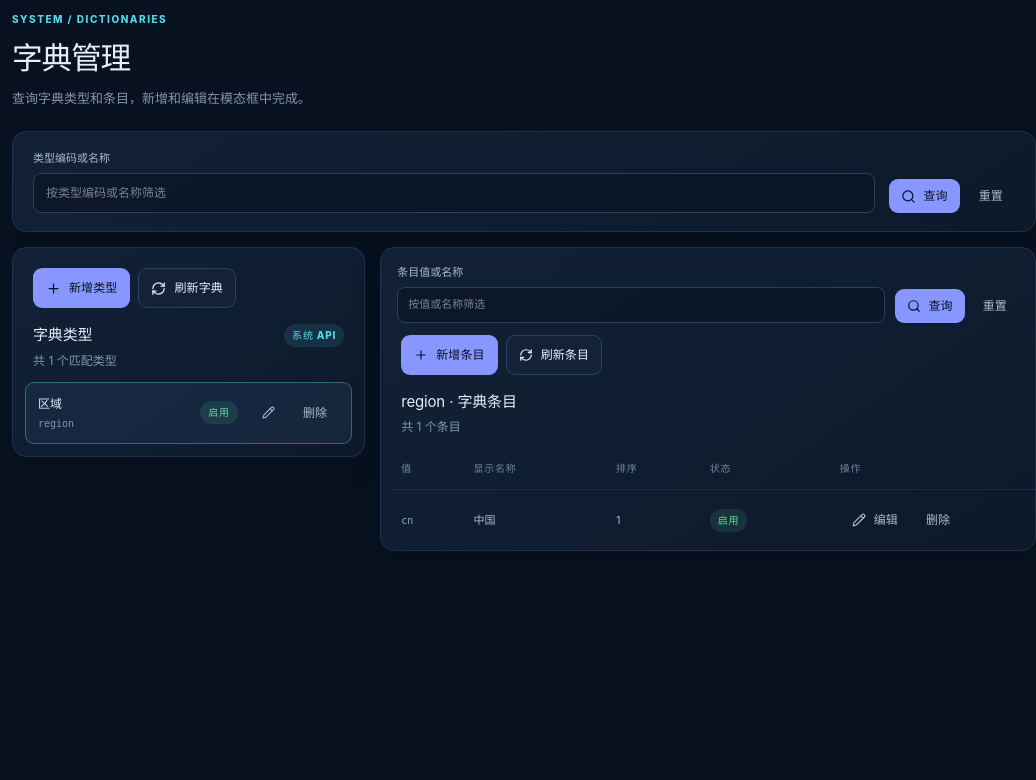
Scenario: DictionariesPage › 刷新字典条目失败时保留旧数据并支持重试
Expected: the text "中国" is shown, top-left (463, 490), bottom-right (606, 550)
Click the button "刷新条目" at (554, 355), box top-left (506, 335), bottom-right (602, 375)
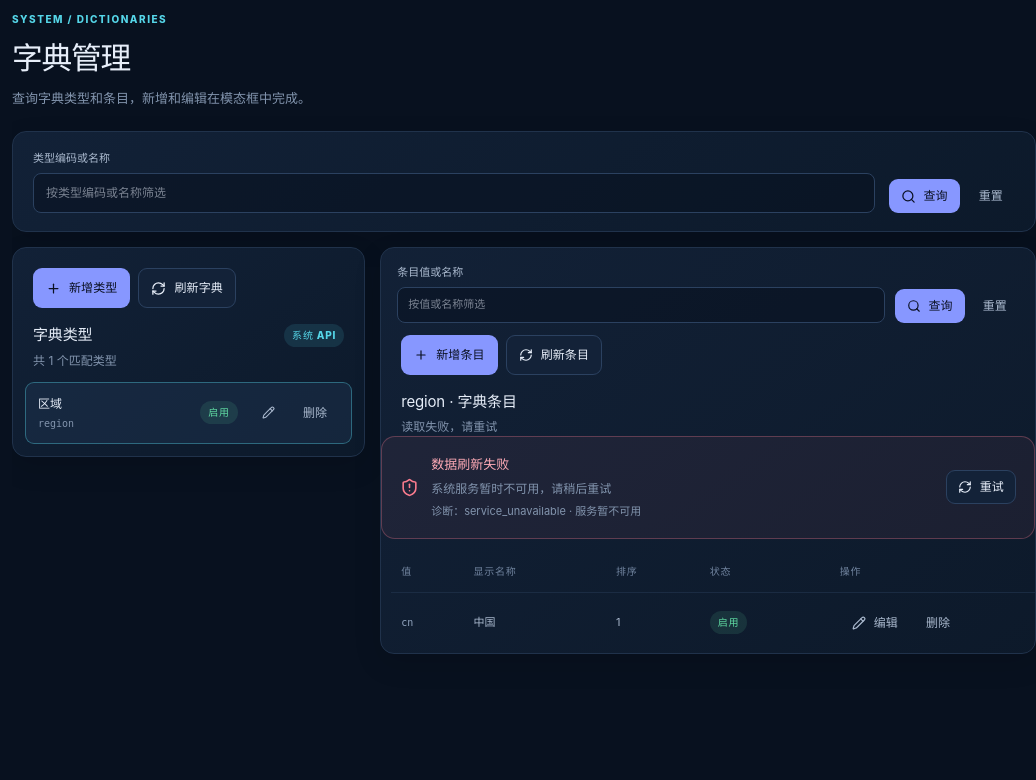
Expected: the text "中国" is shown, top-left (463, 592), bottom-right (606, 652)
Result: the message shows "数据刷新失败" at top-left (431, 456), bottom-right (509, 472)
Result: the message shows "系统服务暂时不可用，请稍后重试" at top-left (431, 481), bottom-right (611, 496)
Click the button "重试" at (981, 487), box top-left (946, 470), bottom-right (1016, 504)
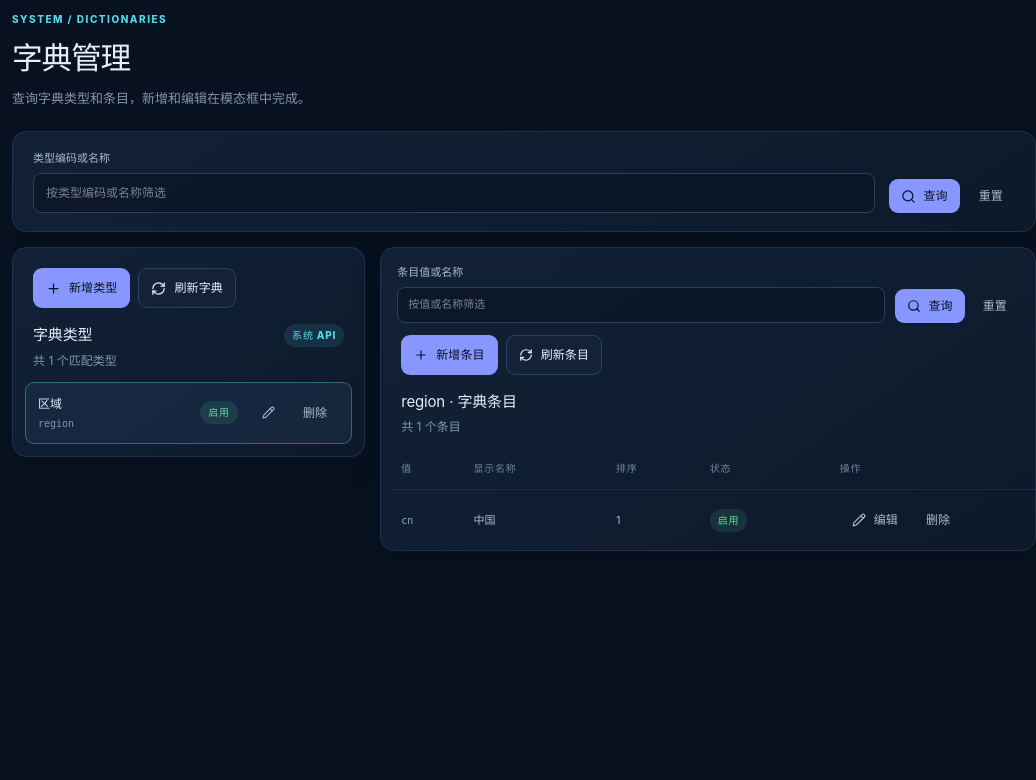
Expected: the text "中国" is shown, top-left (463, 490), bottom-right (606, 550)
Result: the text "数据刷新失败" is gone
